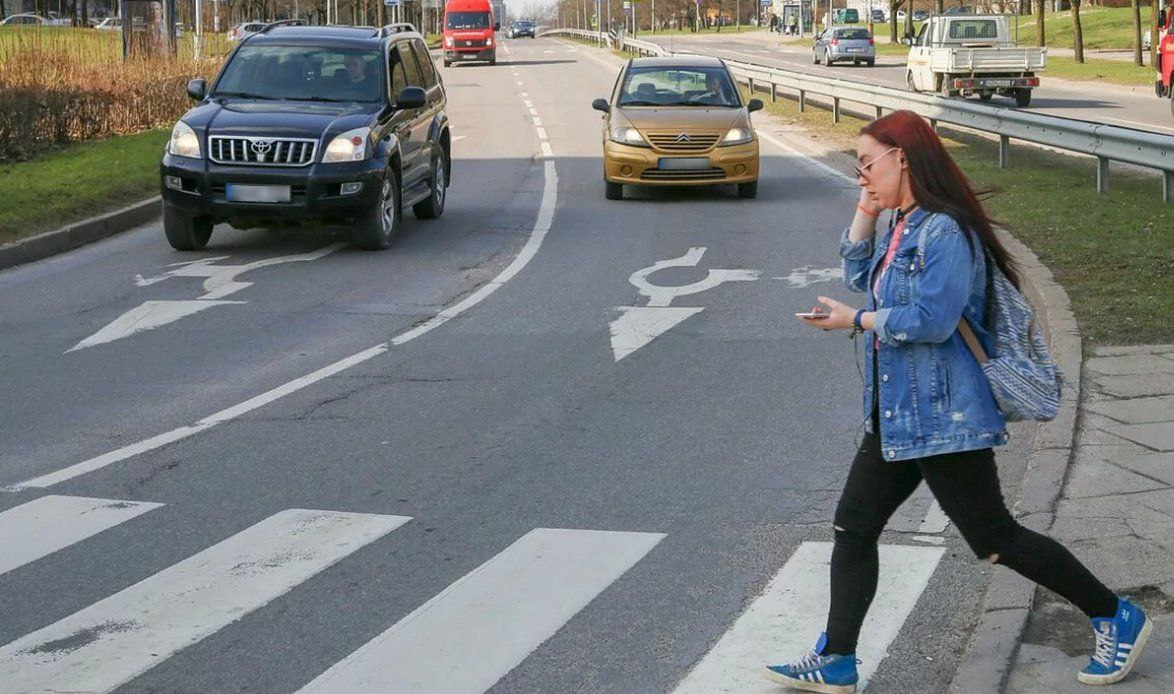sombie: (776, 105, 1150, 694)
